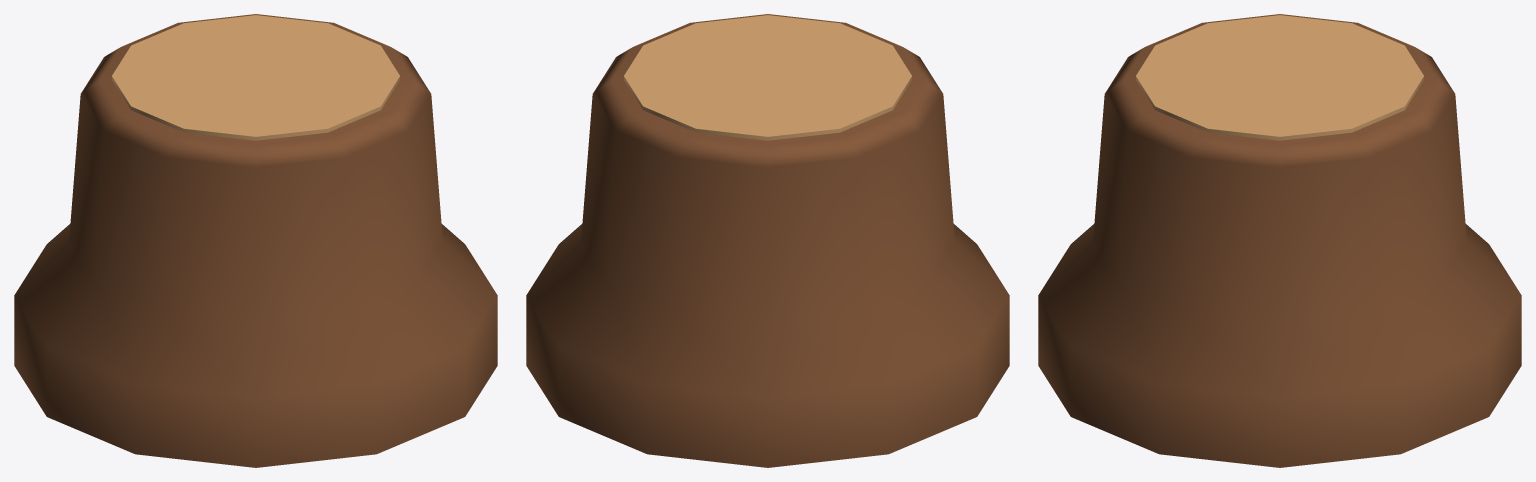
The model's file is stump.glb.
3 views of the same model, side by side, from view 1: azimuth 30°, elevation 25°; view 2: azimuth 150°, elevation 25°; view 3: azimuth 270°, elevation 25° (orthographic).
Visible parts, largest first — view 1: body; view 2: body; view 3: body.
Part boxes in pixels (x1,y1,x2,y2): body: (14,14,497,467); body: (526,14,1009,467); body: (1038,14,1521,467).
Size of the model in its own units: 1.24 by 0.821 by 1.24.
